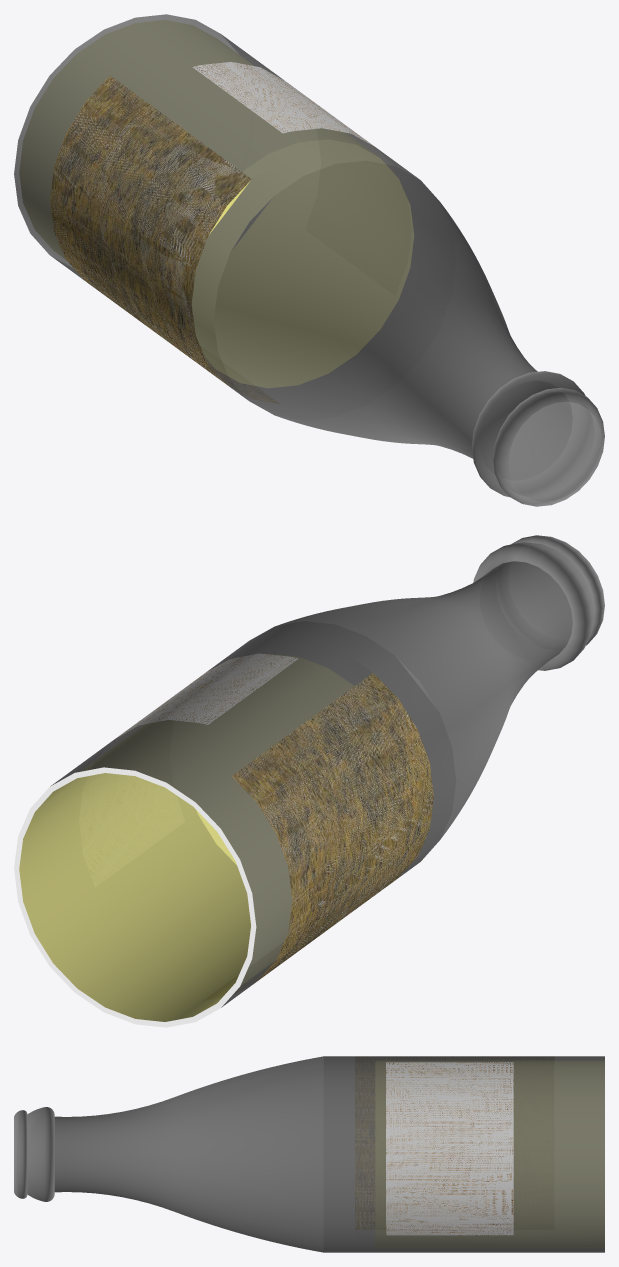
The model's file is model_align.obj.
The picture shows the model from 3 angles, top to bottom: view 1: azimuth 30°, elevation 25°; view 2: azimuth 150°, elevation 25°; view 3: azimuth 270°, elevation 25°; orthographic projection. The views are drawn at different scales.
Parts seen in each view (by area): view 1: mesh1_mesh1-geometry; view 2: mesh1_mesh1-geometry; view 3: mesh1_mesh1-geometry.
Part boxes in pixels (<box>): mesh1_mesh1-geometry: <box>14,14,604,506</box>; mesh1_mesh1-geometry: <box>14,535,604,1027</box>; mesh1_mesh1-geometry: <box>14,1056,604,1252</box>.
Bounding box in the file's own units: 0.0644 × 0.0644 × 0.1933.
